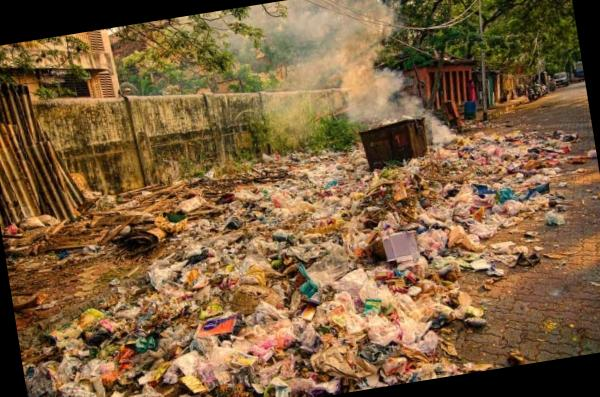road: (446, 157, 600, 365), (500, 82, 596, 154)
trash: (5, 129, 587, 397)
